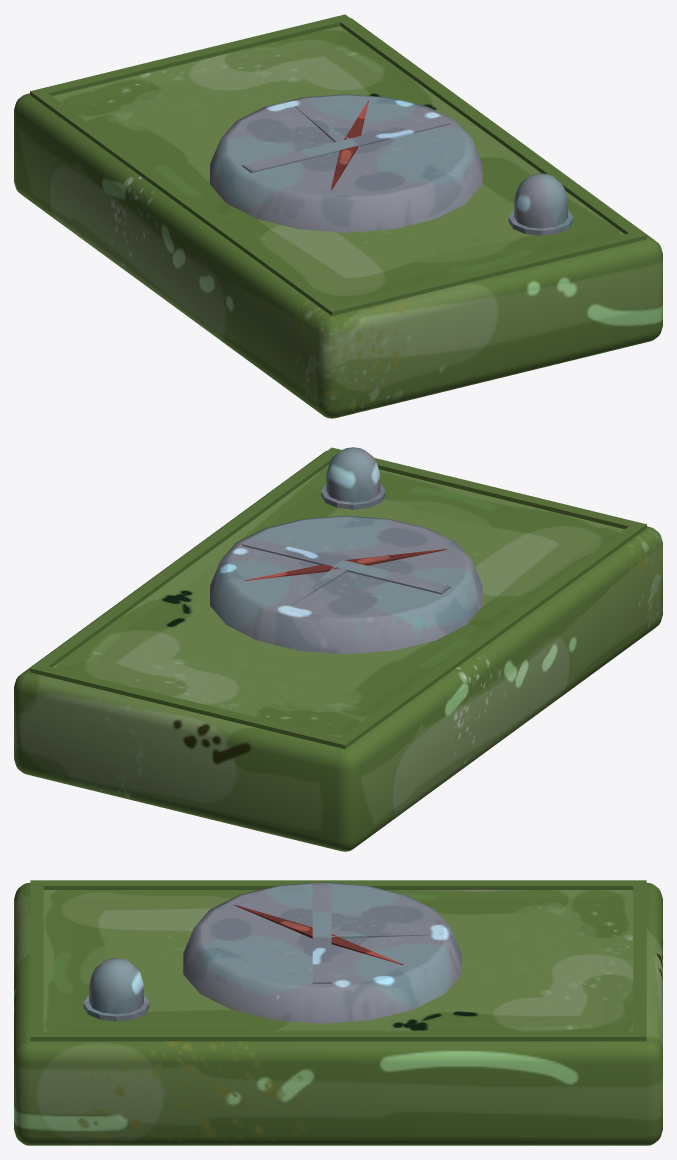
File: Radar_textured_v1.fbx
3 renders of one model, top to bottom at view 1: azimuth 30°, elevation 25°; view 2: azimuth 150°, elevation 25°; view 3: azimuth 270°, elevation 25°, orthographic. The views are drawn at different scales.
Parts seen in each view (by area): view 1: RadarShape; view 2: RadarShape; view 3: RadarShape.
Boxes of the visible parts, x1,y1,x2,y2 form: RadarShape: (14, 14, 662, 418); RadarShape: (14, 447, 662, 851); RadarShape: (14, 880, 662, 1145).
Bounding box in the file's own units: 90.73 × 37.71 × 146.
Materials: 1 (1 with a texture image).
